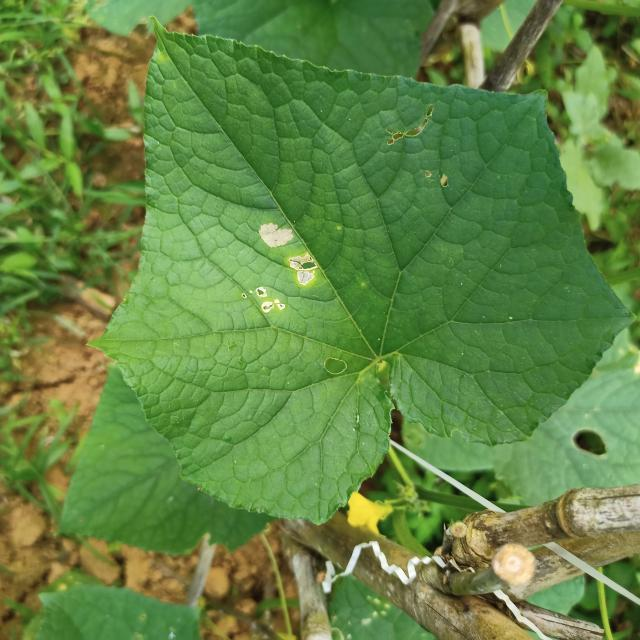disease_cucumber: (250, 217, 330, 321)
